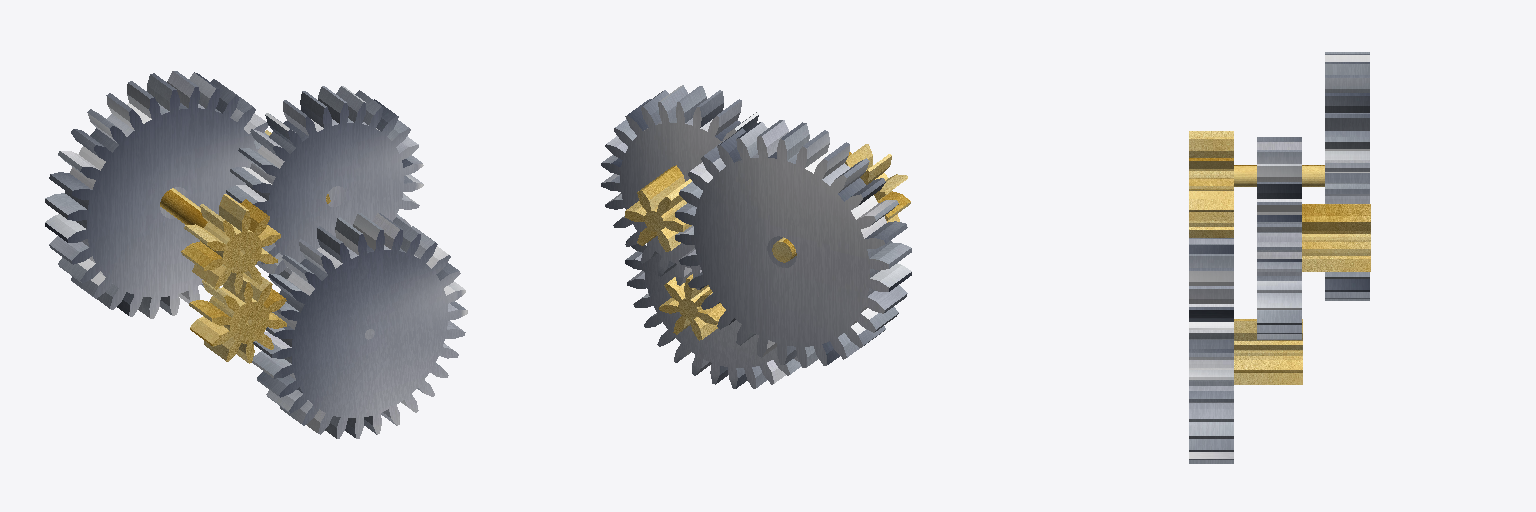
The picture shows the model from 3 angles: view 1: azimuth 30°, elevation 25°; view 2: azimuth 150°, elevation 25°; view 3: azimuth 270°, elevation 25°; orthographic projection.
Parts seen in each view (by area): view 1: Big20, MainBig, Big5, MainSmall, Small60, Shaft; view 2: MainBig, Big5, Big20, Small5, Small20, MainSmall; view 3: Big20, Big5, MainBig, Small5, MainSmall, Small20, Shaft, Small60.
Part boxes in pixels (x1,y1,x2,y2): Big20: (252, 213, 467, 438); MainBig: (45, 71, 268, 318); Big5: (226, 86, 423, 278); MainSmall: (181, 194, 280, 294); Small60: (189, 273, 286, 363); Shaft: (160, 188, 207, 227); MainBig: (675, 120, 911, 367); Big5: (601, 85, 758, 289); Big20: (625, 238, 801, 388); Small5: (625, 165, 691, 251); Small20: (659, 274, 725, 340); MainSmall: (845, 144, 910, 222); Big20: (1189, 238, 1233, 463); Big5: (1257, 137, 1301, 339); MainBig: (1325, 52, 1369, 300); Small5: (1302, 204, 1370, 271); MainSmall: (1189, 131, 1233, 220); Small20: (1234, 319, 1302, 384); Shaft: (1234, 165, 1324, 186); Small60: (1189, 221, 1233, 237).
Bounding box in the file's own units: 3.4 × 3.2 × 1.61.
8 materials, 2 textured.